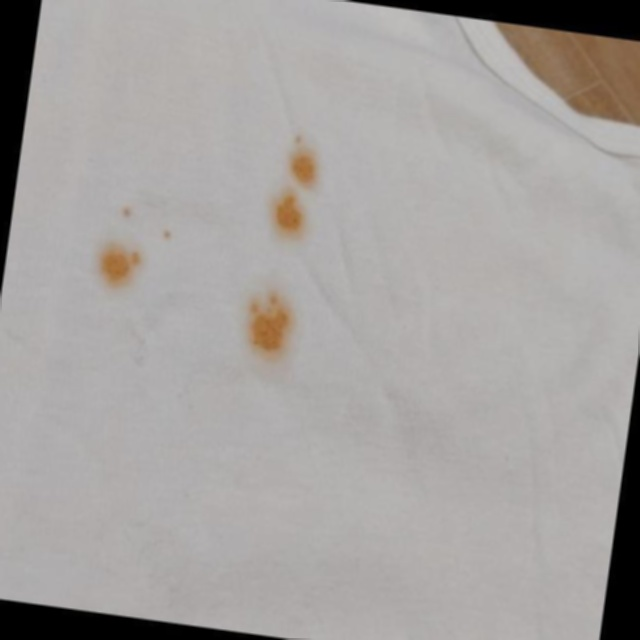kimchi: (88, 233, 155, 303), (242, 288, 298, 368), (287, 127, 331, 185), (268, 186, 311, 244), (110, 197, 140, 221), (160, 225, 187, 248)
